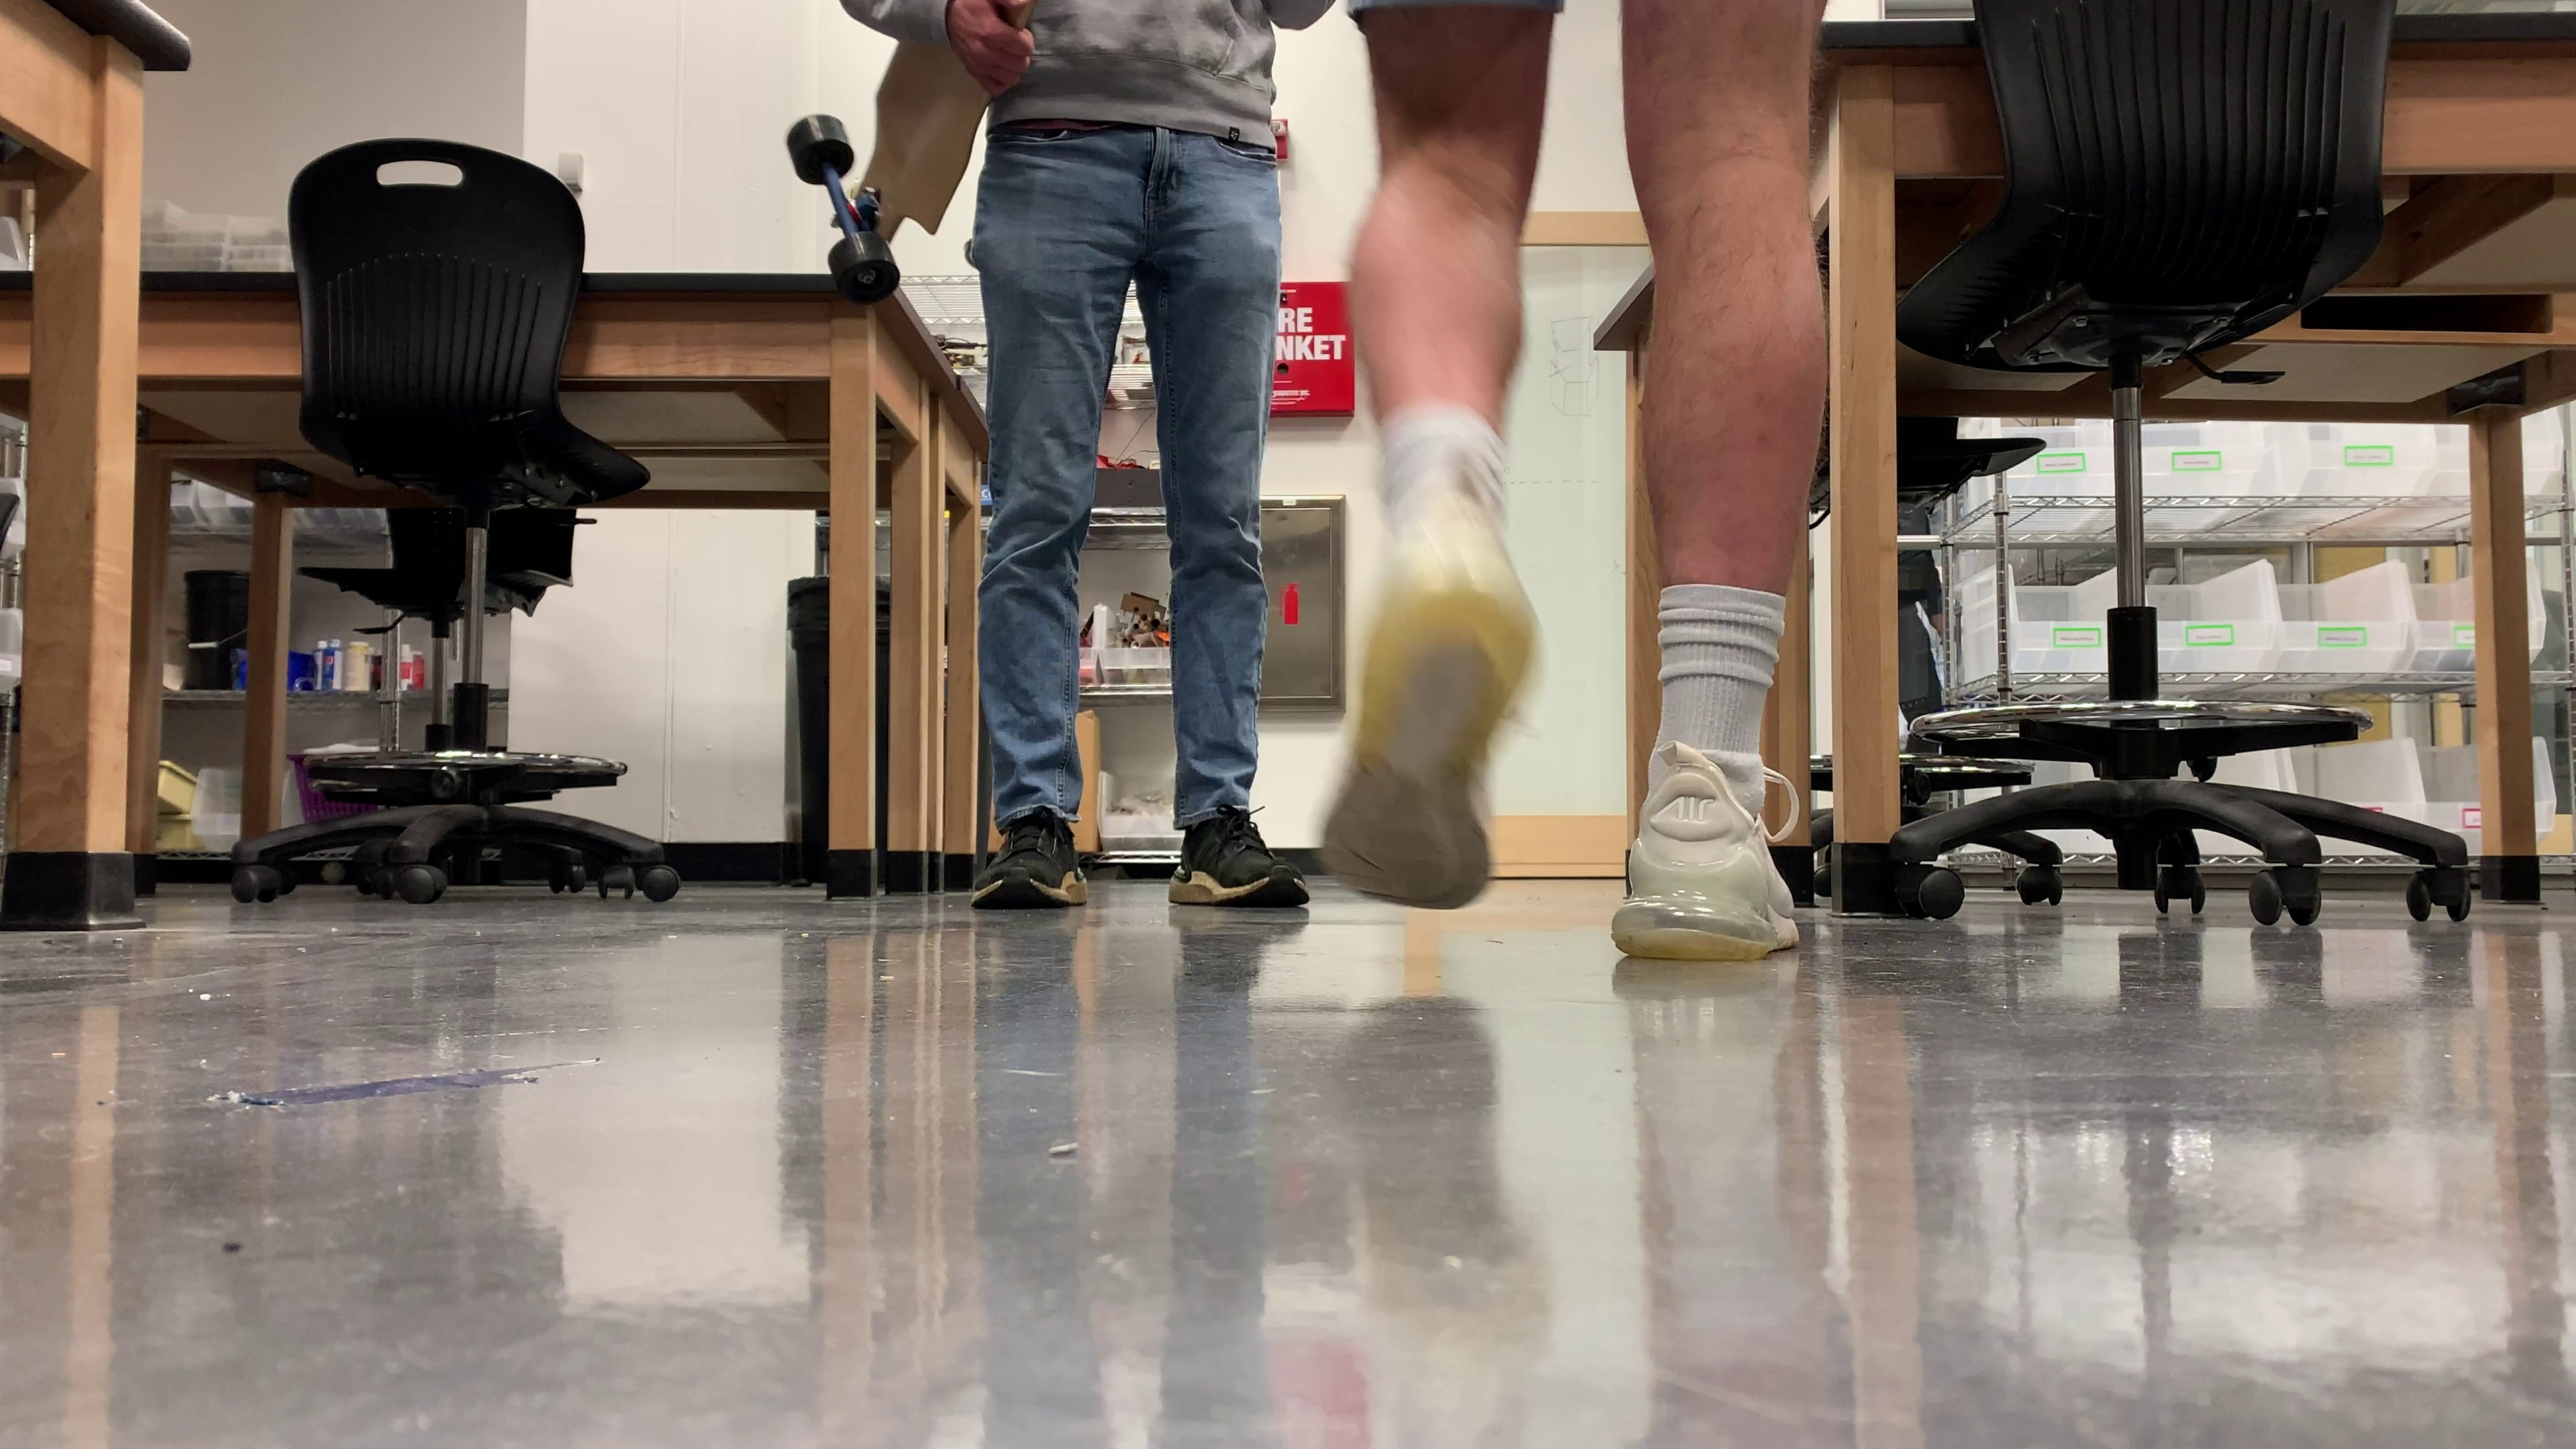shoe: (1320, 488, 1536, 913), (1614, 757, 1799, 961), (1169, 810, 1307, 906), (975, 807, 1085, 906)
